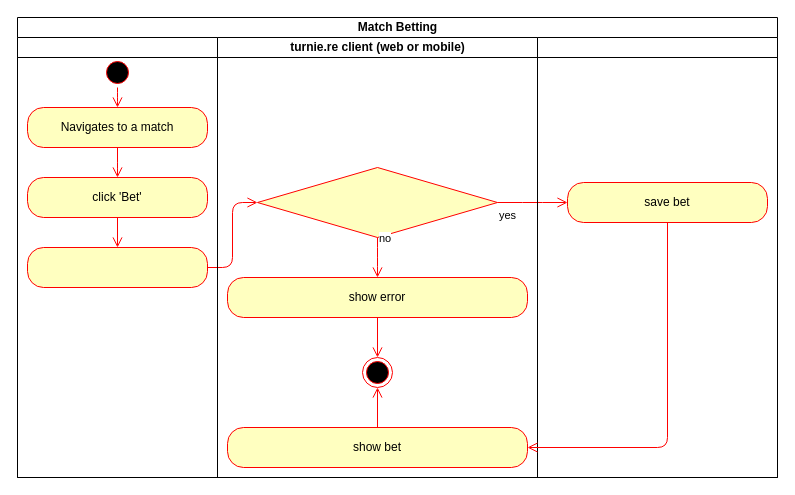
Some shapes in this 795 by 495 pixel diagram are drawn without their labels. Each missing label, with the box of its shape:
are user credentials valid?: (256, 166, 498, 238)
put in Amount and Score: (26, 246, 208, 288)
turnie.re server: (536, 36, 778, 478)
User: (16, 36, 218, 478)
